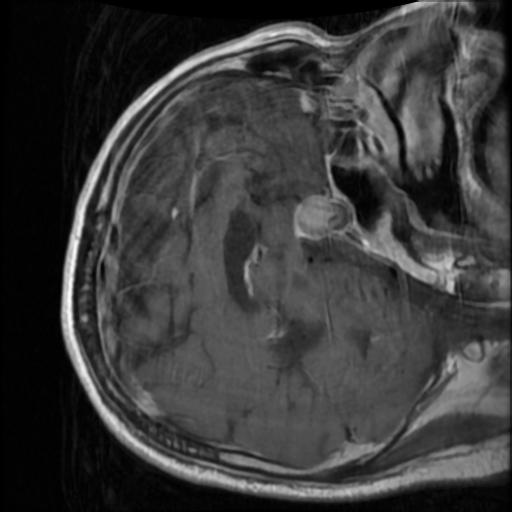pituitary tumour: (293, 196, 342, 237)
